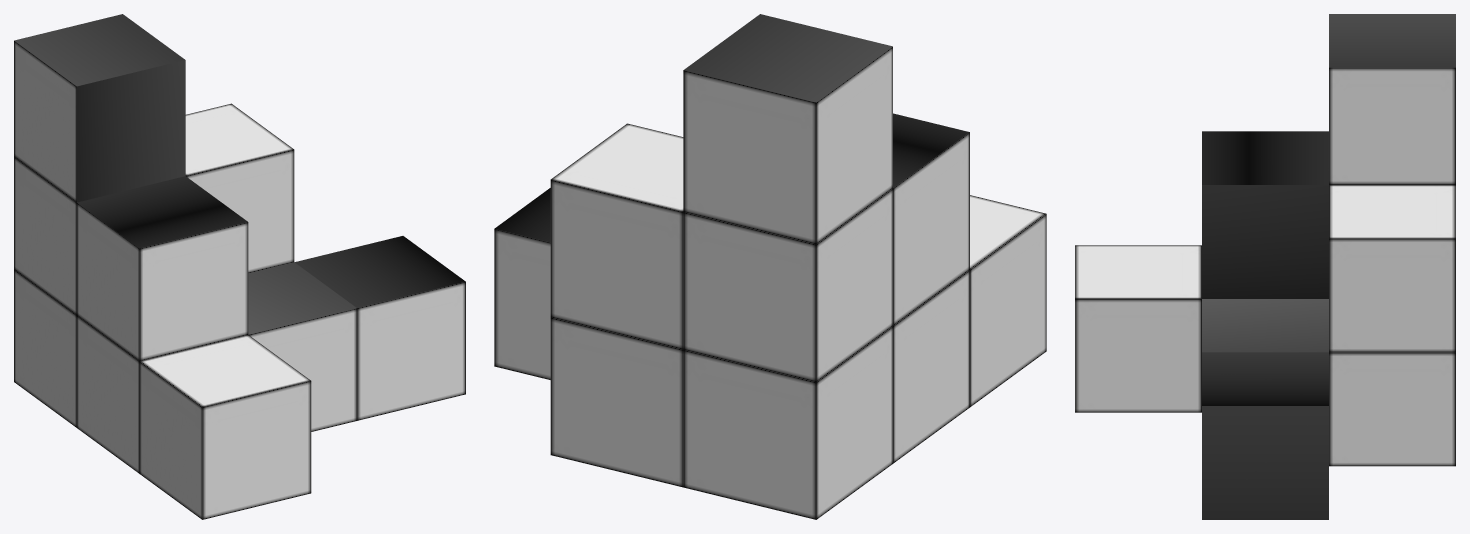
The model's file is river_white.glb.
3 renders of one model, left to right at view 1: azimuth 30°, elevation 25°; view 2: azimuth 150°, elevation 25°; view 3: azimuth 270°, elevation 25°, orthographic. The views are drawn at different scales.
Visible parts, largest first — view 1: river_1; view 2: river_1; view 3: river_1.
Boxes of the visible parts, left/top/right/bottom form: river_1: left=14, top=14, right=465, bottom=519; river_1: left=494, top=14, right=1046, bottom=519; river_1: left=1075, top=14, right=1455, bottom=519.
Bounding box in the file's own units: 1 × 1 × 1.
1 material, 1 textured.
